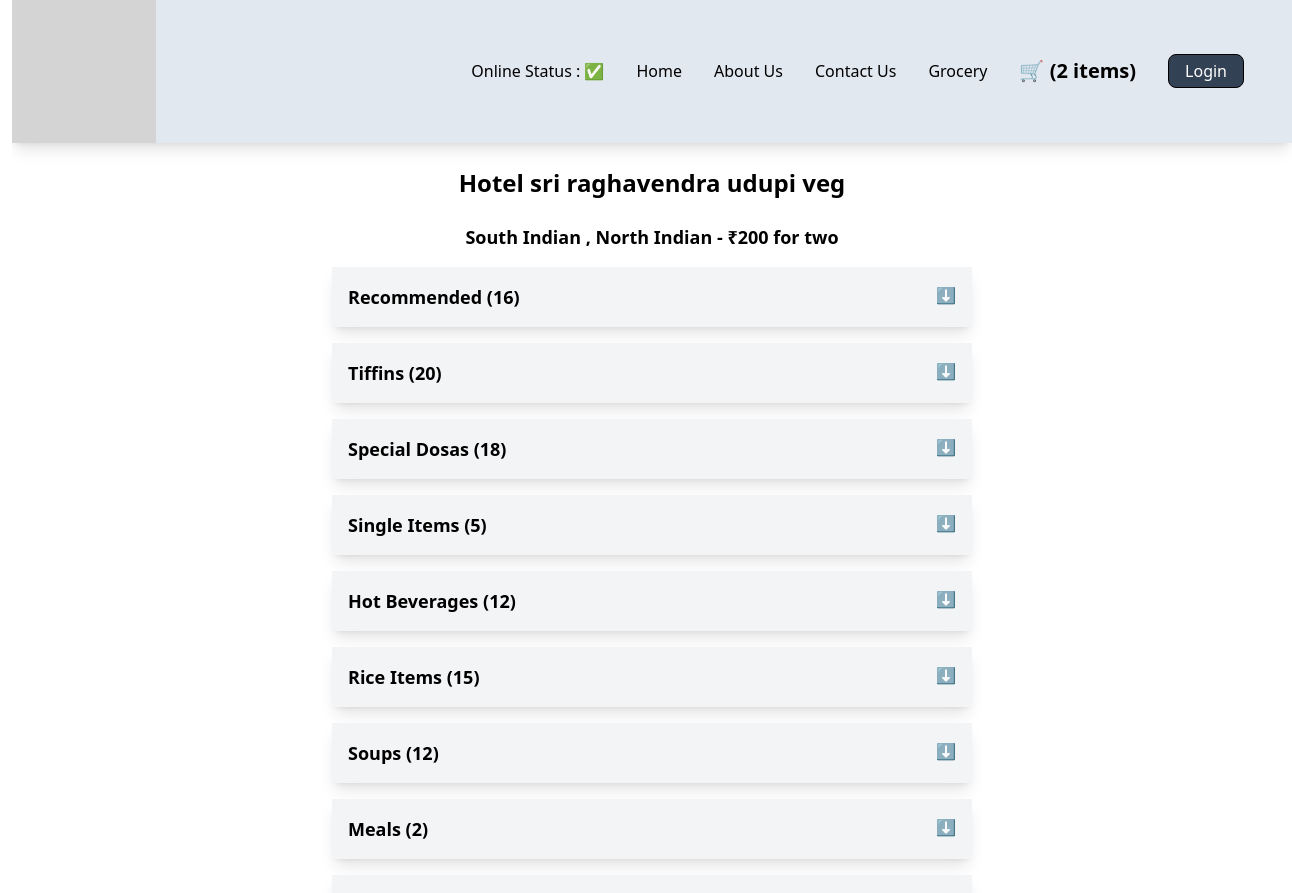
Test: Should add food items to the card and render it › Should be able to clear the cart
Click the text "Recommended (16)" at [434, 297], box [348, 283, 520, 311]
(page scrolled)
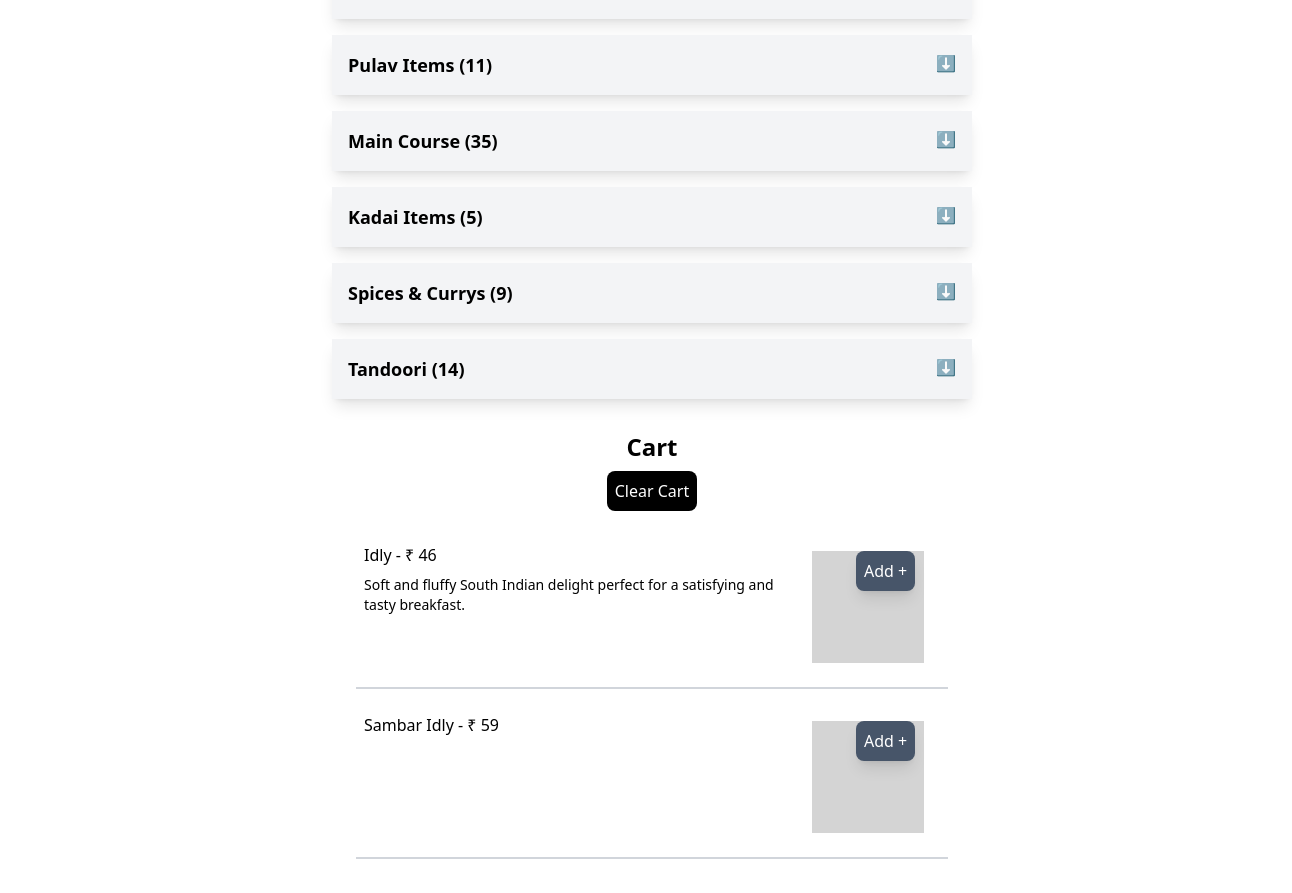
Note: Clearing the 2 items that we added in the cart
Click the button "Clear Cart" at [652, 491], box [607, 471, 697, 511]
(page scrolled)
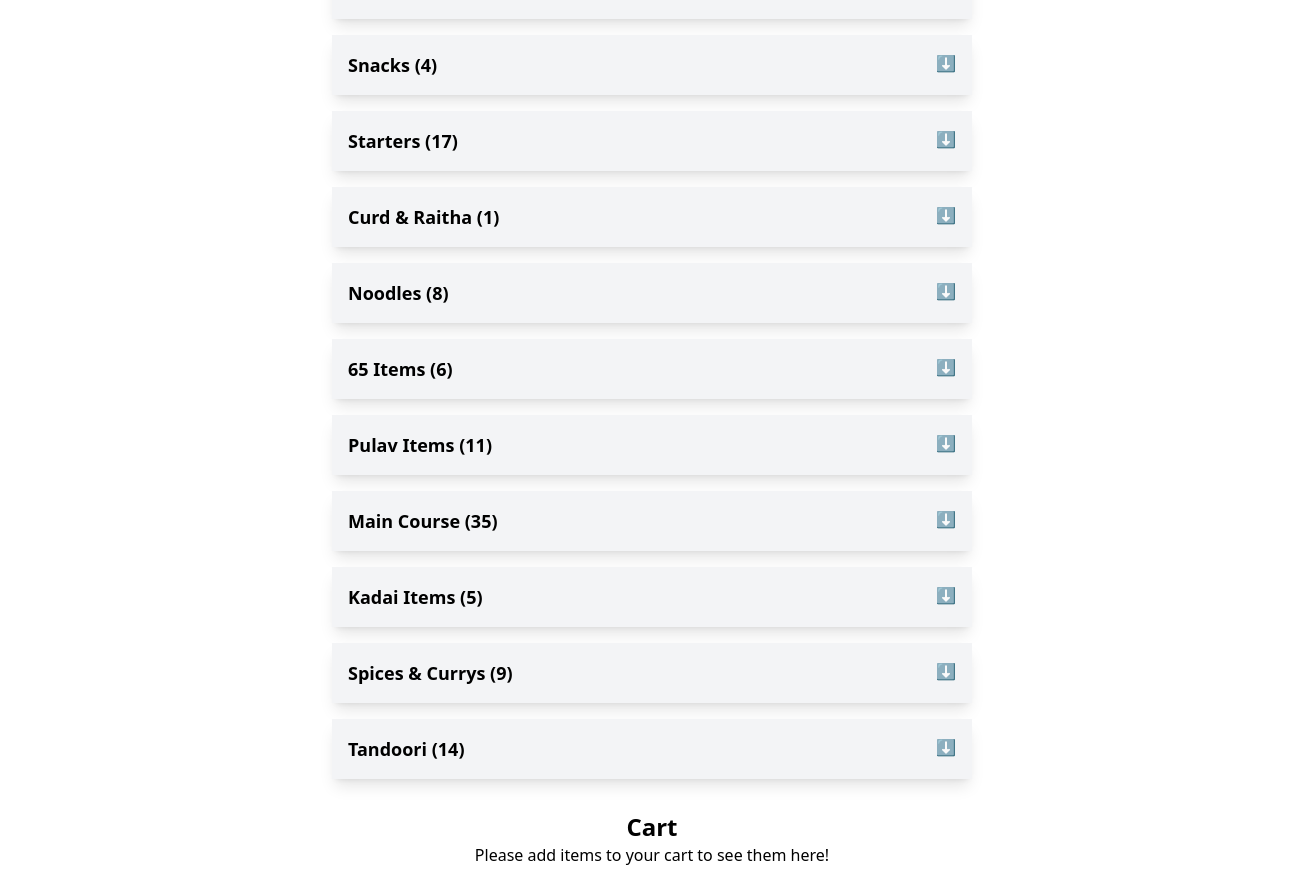
Expected: the text "Please add items to your cart to see them here!" is shown, [475, 844, 829, 866]
